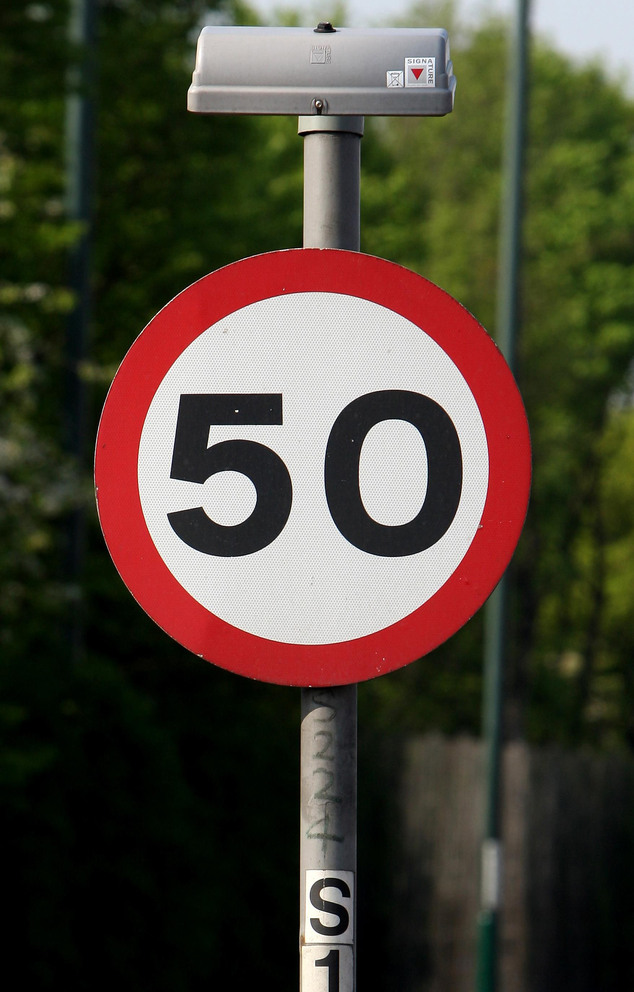Speed_limit_50km: (90, 246, 534, 683)
